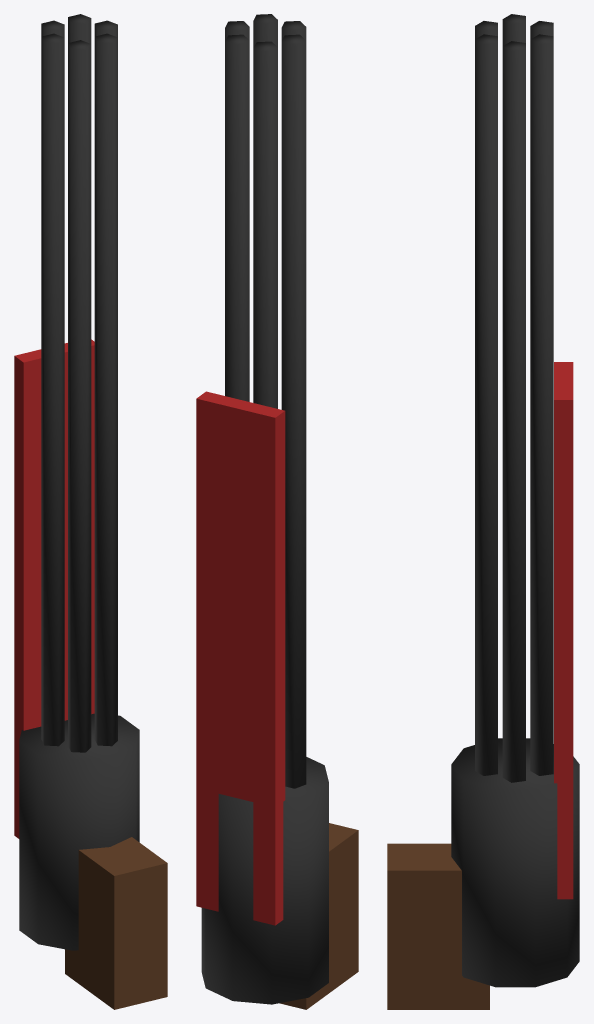
File: chain_gun.glb
3 views of the same model, side by side, from view 1: azimuth 30°, elevation 25°; view 2: azimuth 150°, elevation 25°; view 3: azimuth 270°, elevation 25° (orthographic). The views are drawn at different scales.
Visible parts, largest first — view 1: chain_gun_v0; view 2: chain_gun_v0; view 3: chain_gun_v0.
Part boxes in pixels (box(x1,y1,x2,y2)): chain_gun_v0: box(14, 14, 167, 1009); chain_gun_v0: box(196, 14, 358, 1009); chain_gun_v0: box(387, 14, 579, 1009).
Size of the model in its own units: 0.0951 by 0.83 by 0.15.
